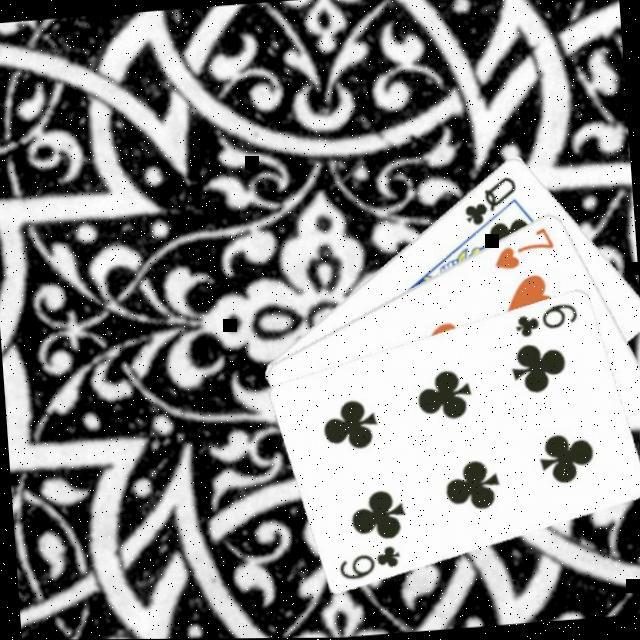6C: (513, 296, 583, 339), (336, 538, 406, 581)
7H: (490, 220, 561, 272)
QC: (460, 169, 524, 227)
